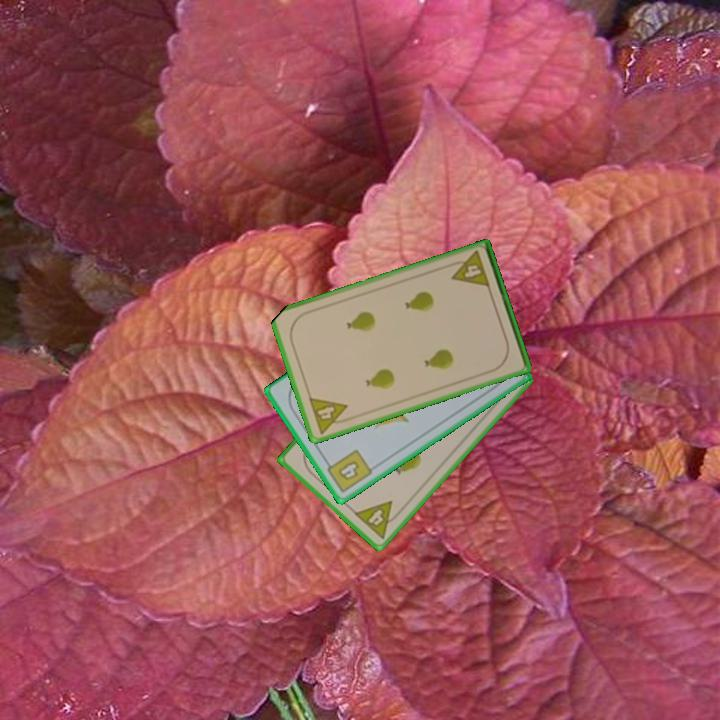4b: (321, 446, 375, 496)
4p: (350, 497, 405, 542), (445, 247, 493, 291), (305, 394, 354, 437)
